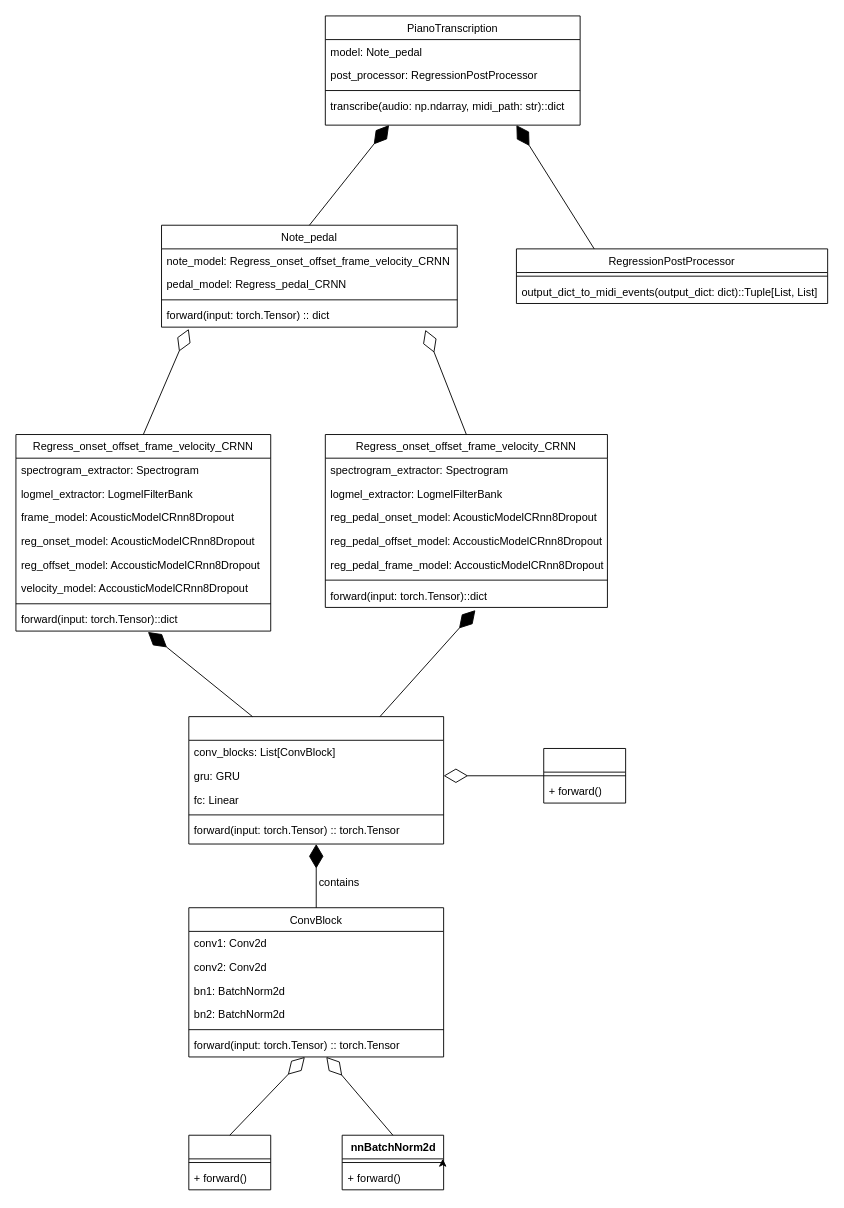
Some shapes in this 844 by 1208 pixel diagram are drawn without their labels. The shapes that lost their labels are listed below. From the top down, each one's box as (x1, y1, x2, y2) in pixels, then its label:
(188, 716, 444, 844): AcousticModelCRnn8Dropout
(543, 748, 626, 803): nn.GRU
(188, 1134, 271, 1190): nn.Conv2d
